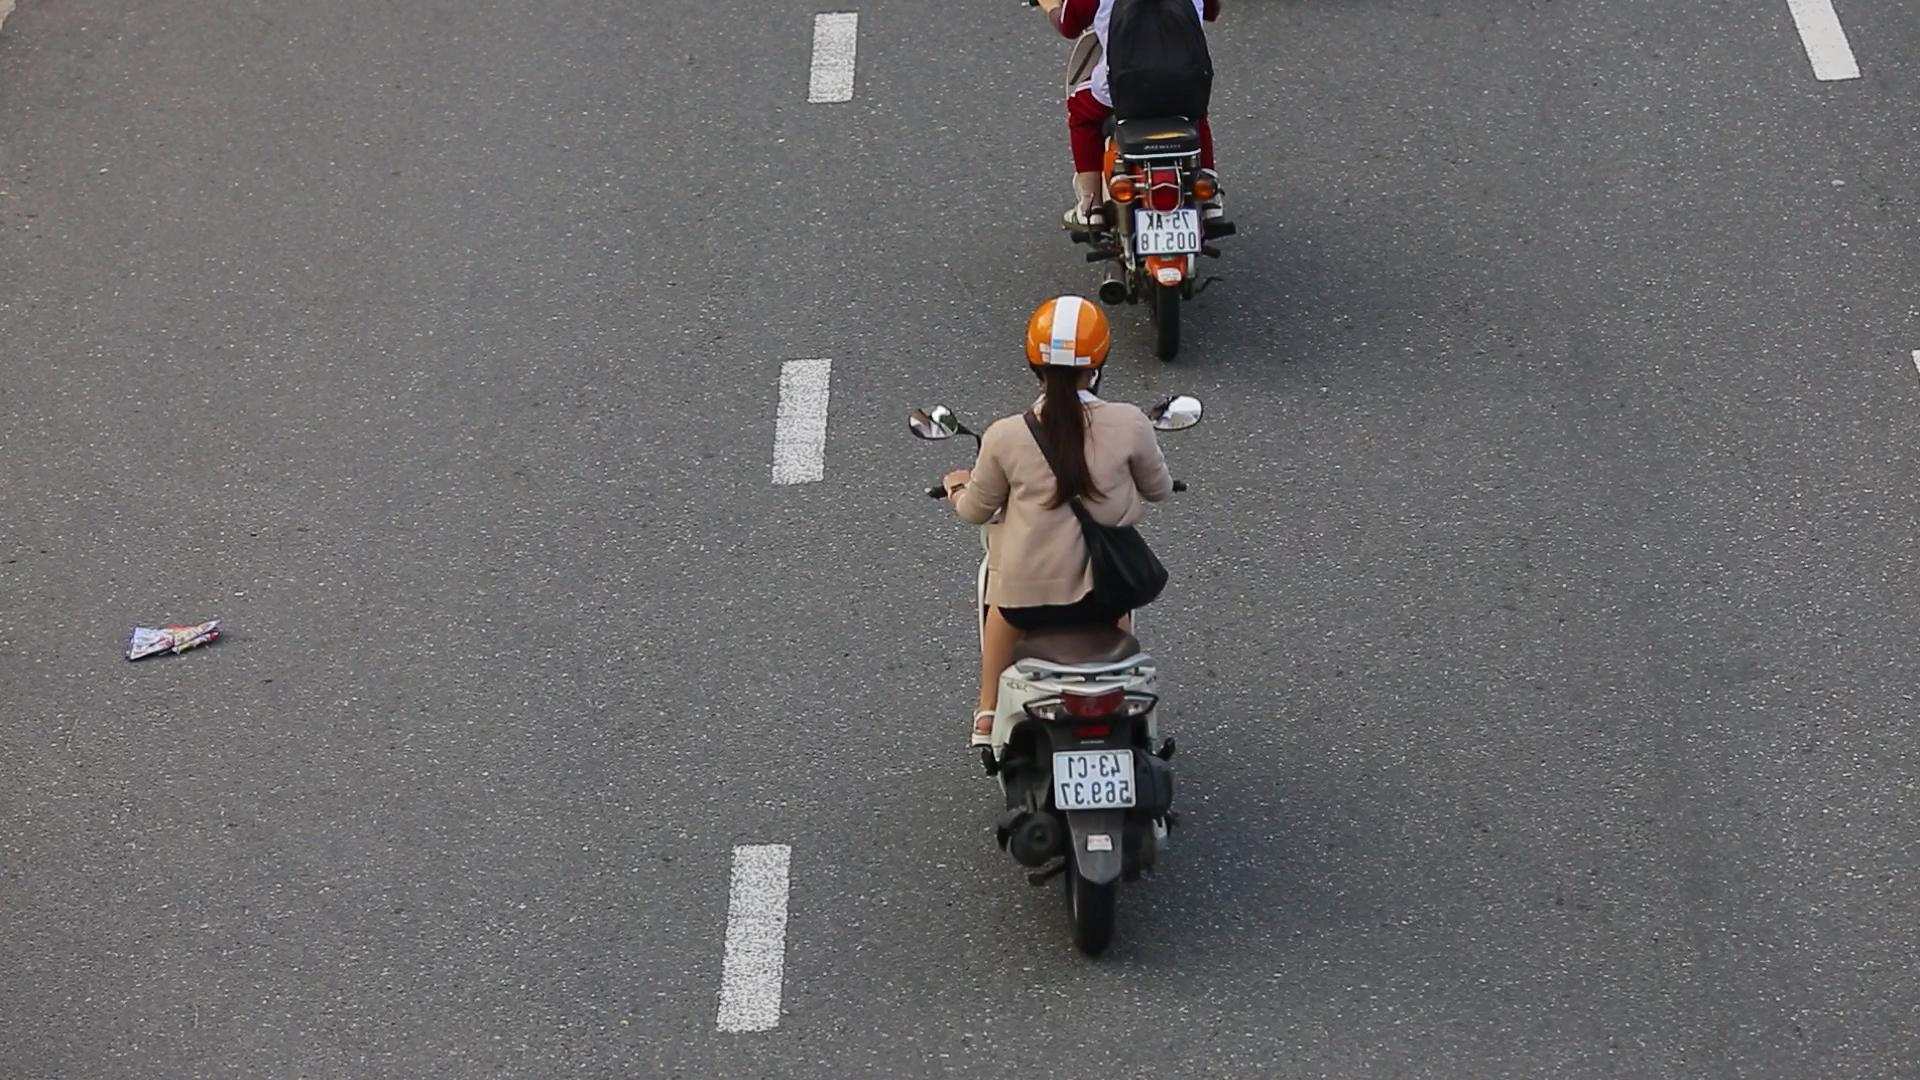motobike: (906, 297, 1209, 952)
